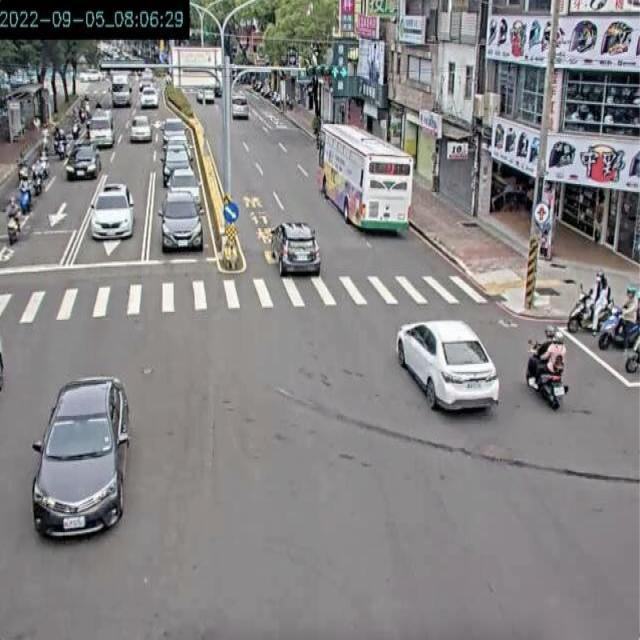Bus: (319, 122, 414, 234)
Car: (30, 375, 130, 540), (395, 319, 500, 413), (270, 221, 321, 276)
Motorcycle: (525, 336, 568, 410)
